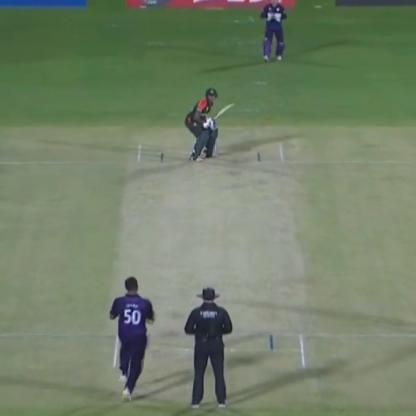bat: (205, 102, 242, 120)
pitch: (115, 145, 308, 382)
